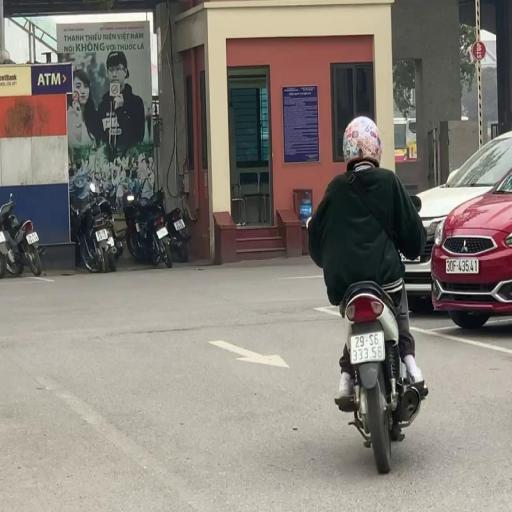bike: (305, 114, 428, 473)
numberplate: (350, 330, 384, 363), (24, 230, 40, 248), (172, 216, 188, 233), (155, 224, 169, 242), (94, 226, 108, 242)
with helmet: (342, 116, 382, 165)
